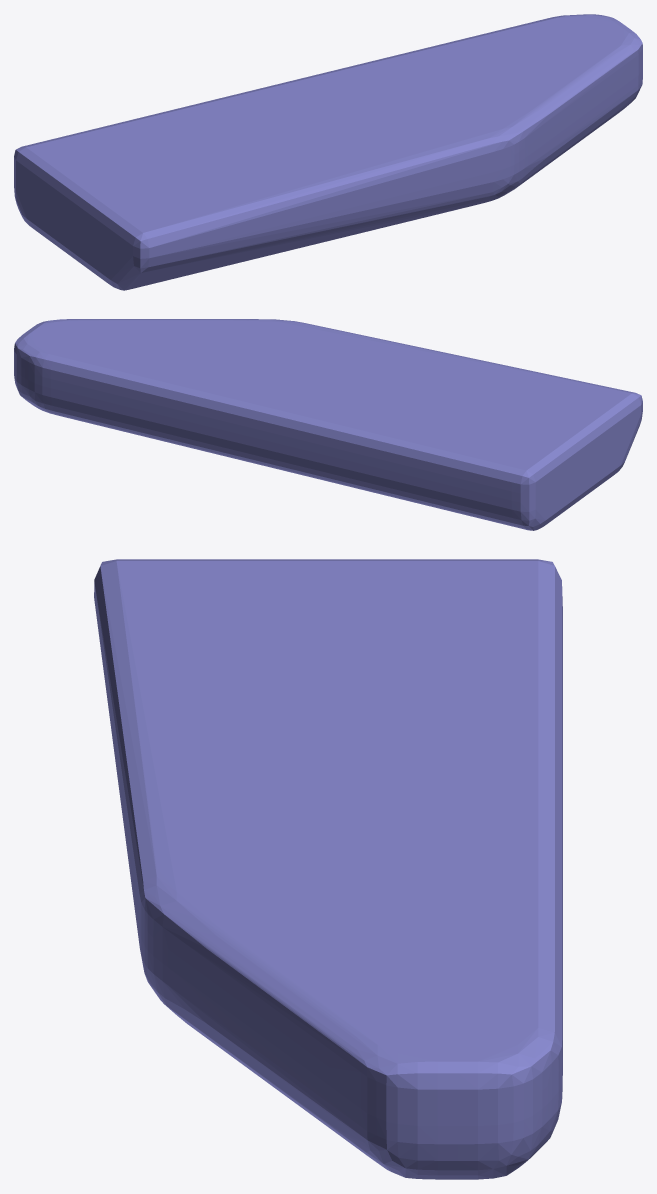
Rendered from right_ankle_link_part_12.obj.
3 views of the same model, one above another, from view 1: azimuth 30°, elevation 25°; view 2: azimuth 150°, elevation 25°; view 3: azimuth 270°, elevation 25° (orthographic). The views are drawn at different scales.
Size of the model in its own units: 0.0764 by 0.00887 by 0.0292.
